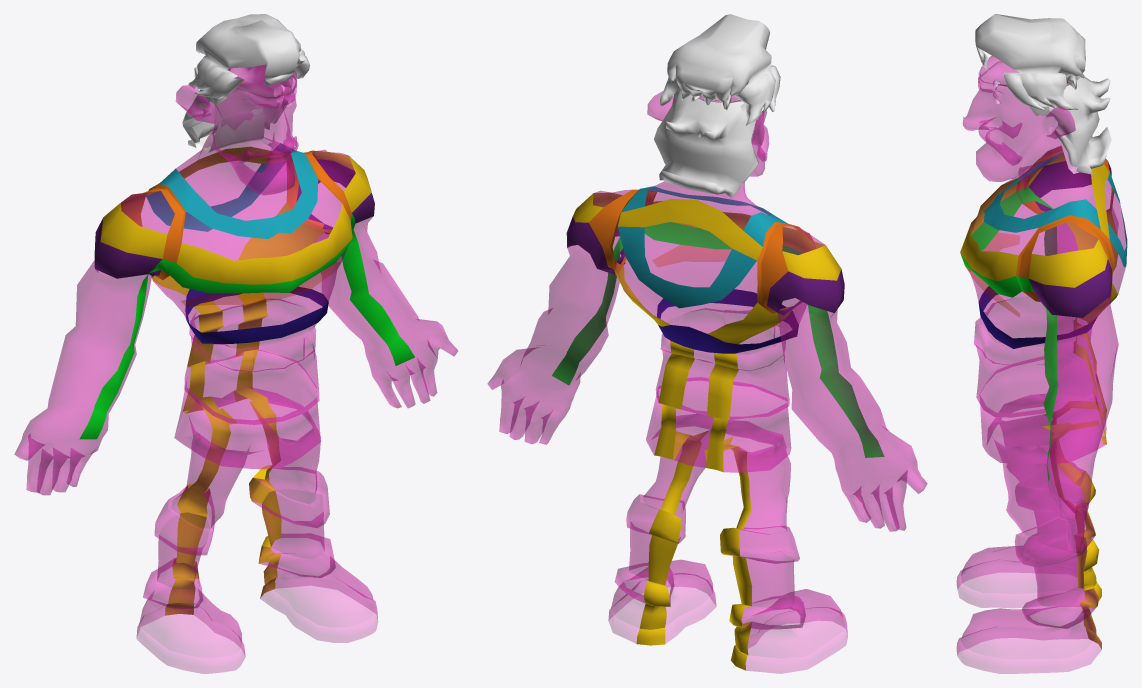
The model's file is Zozo.fbx.
The picture shows the model from 3 angles, left to right: view 1: azimuth 30°, elevation 25°; view 2: azimuth 150°, elevation 25°; view 3: azimuth 270°, elevation 25°; orthographic projection.
Parts seen in each view (by area): view 1: Plane.004, Plane.005; view 2: Plane.004, Plane.005; view 3: Plane.004, Plane.005.
Boxes of the visible parts, x1,y1,x2,y2 form: Plane.004: (14, 64, 458, 673); Plane.005: (182, 14, 310, 153); Plane.004: (487, 91, 927, 673); Plane.005: (654, 14, 780, 197); Plane.004: (956, 55, 1127, 673); Plane.005: (975, 14, 1111, 174).
Bounding box in the file's own units: 61.79 × 81.65 × 20.92.
